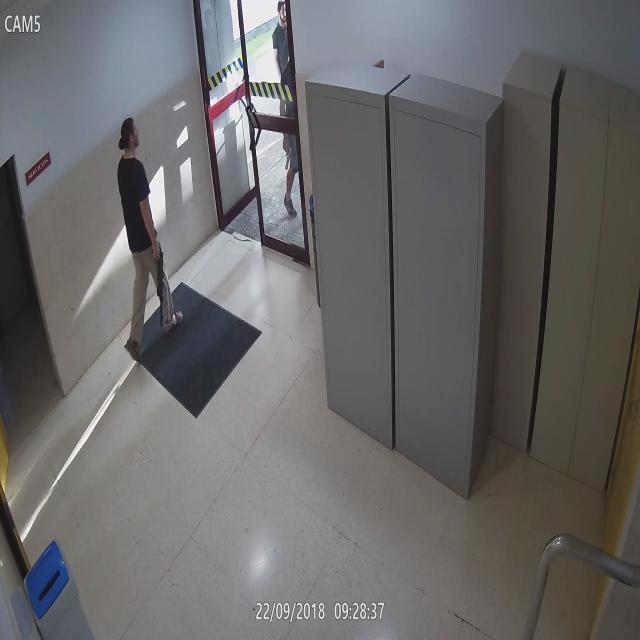weapon: (150, 240, 164, 326)
